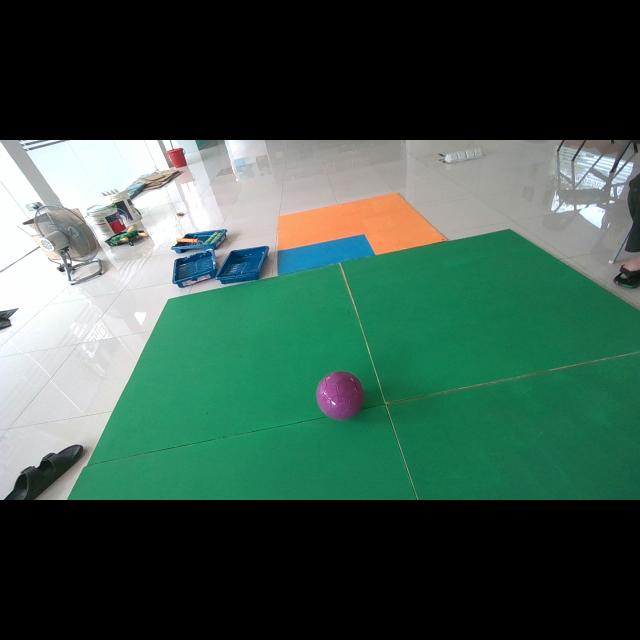P: (316, 371, 365, 420)
